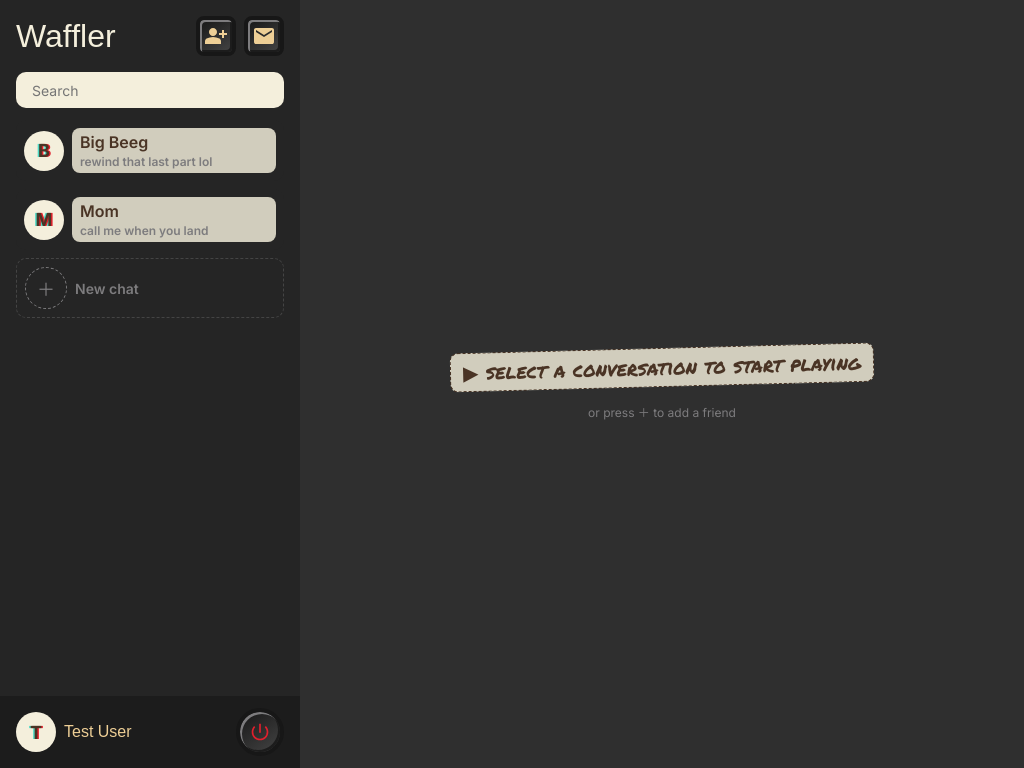
HomePage › sends a message and appends it to that conversation only
Click the text "Big Beeg" at x=174, y=150, box 72,128 -> 276,173
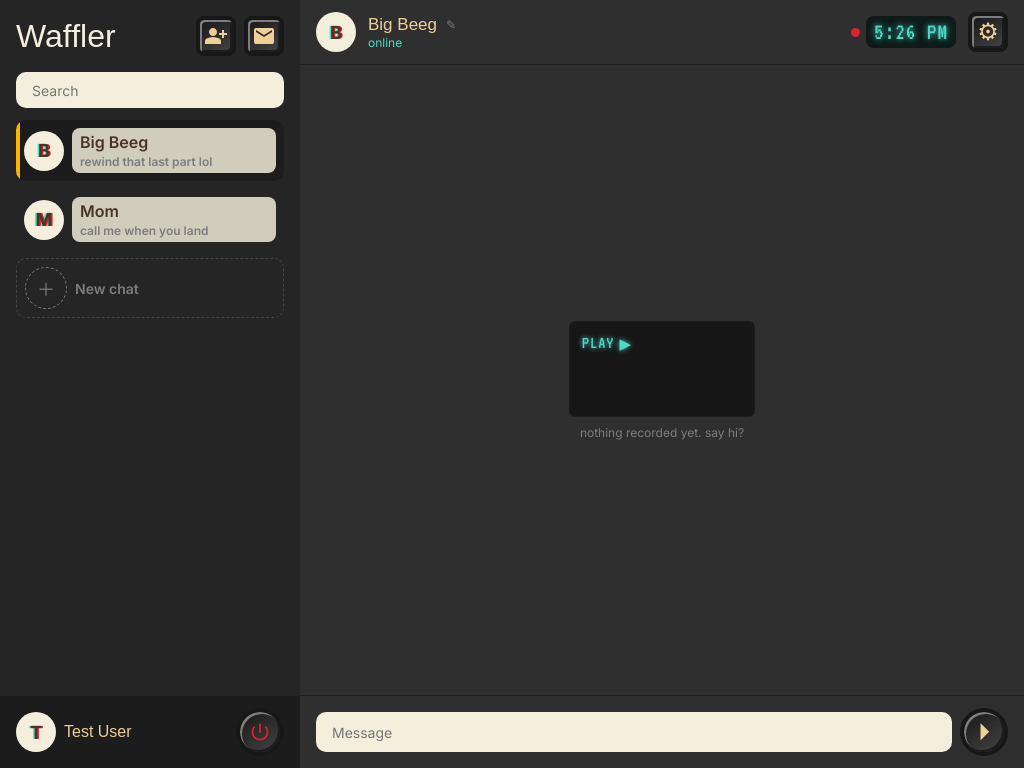
Type "testing the compose bar" into the field with placeholder "Message" at x=634, y=732, box 316,712 -> 952,752
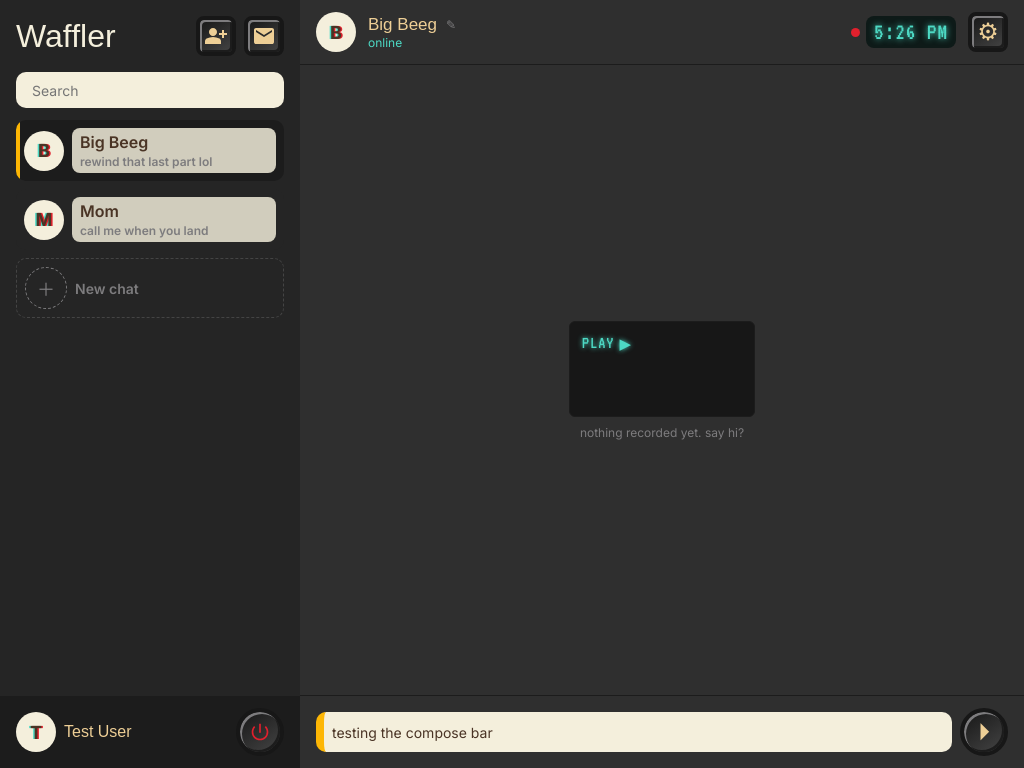
Click the button named "send" at x=984, y=732, box 960,708 -> 1008,756
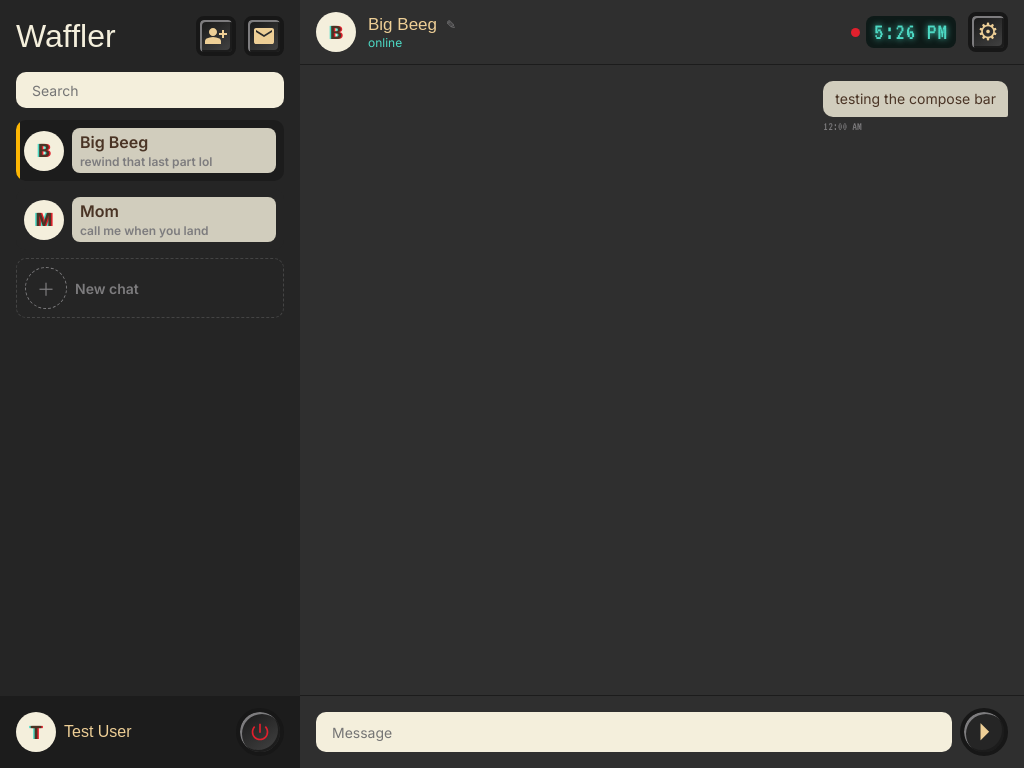
Now the text "testing the compose bar" is shown, box 823,81 -> 1008,117
Now the field with placeholder "Message" is empty, box 316,712 -> 952,752
Click the text "Mom" at x=174, y=220, box 72,197 -> 276,242
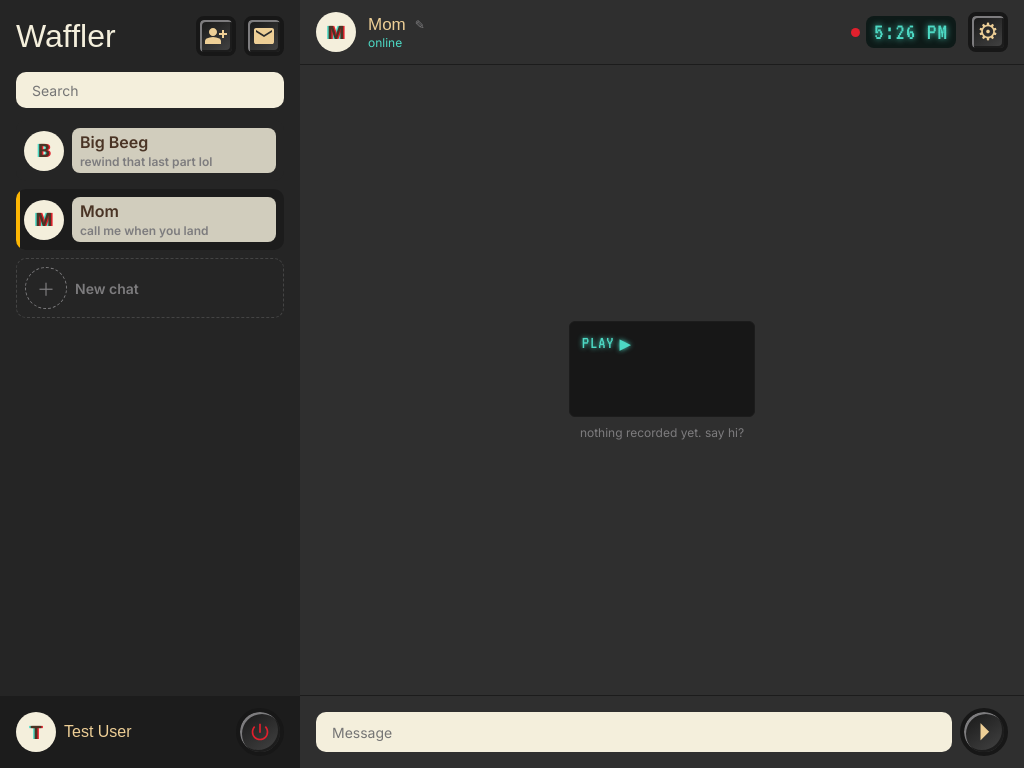
Now the text "testing the compose bar" is gone
